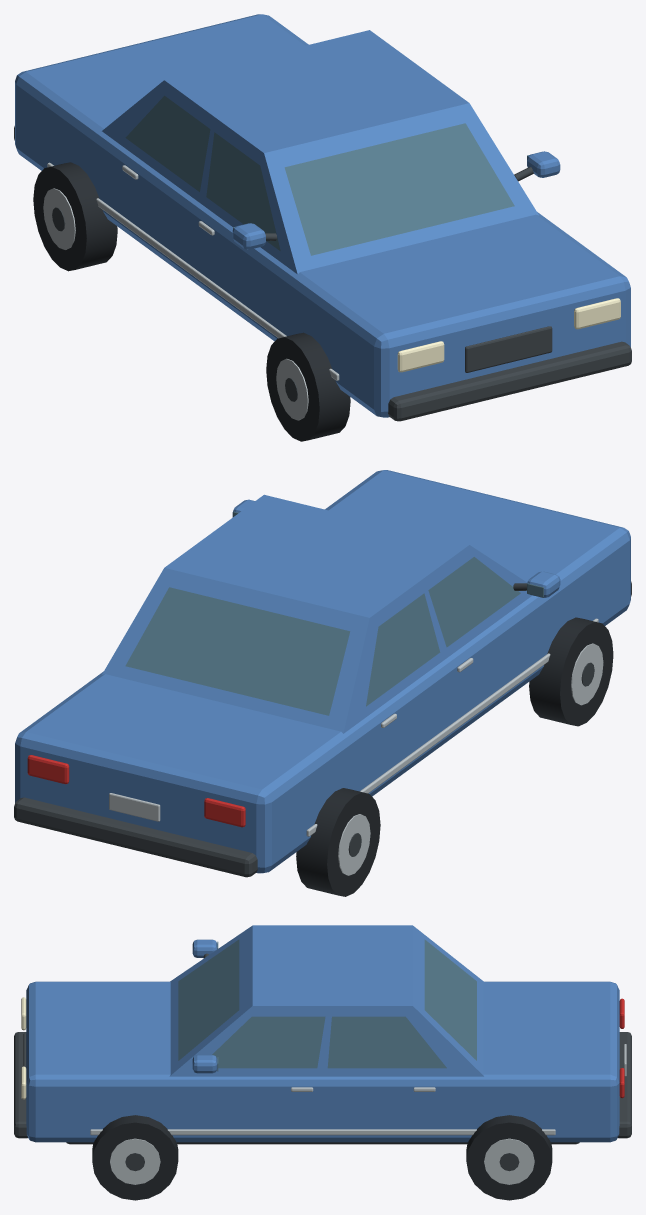
File: car_sedan.glb
The picture shows the model from 3 angles, top to bottom: view 1: azimuth 30°, elevation 25°; view 2: azimuth 150°, elevation 25°; view 3: azimuth 270°, elevation 25°; orthographic projection. The views are drawn at different scales.
Visible parts, largest first — view 1: Main body, Sedan cabin shell, Sedan windshield, Front bumper, Left front wheel tire, Left rear wheel tire, Sedan left window 2, Sedan left window 1, Front grille, Side lower trim, Left front wheel rim, Left rear wheel rim (+4 smaller); view 2: Main body, Sedan cabin shell, Sedan rear glass, Rear bumper, Left rear wheel tire, Left front wheel tire, Sedan left window 2, Sedan left window 1, Side lower trim, Left rear wheel rim, Left front wheel rim, Rear blank license plate (+2 smaller); view 3: Main body, Sedan cabin shell, Sedan right window 2, Sedan right window 1, Sedan windshield, Right rear wheel tire, Right front wheel tire, Sedan rear glass, Side lower trim.001, Right front wheel rim, Right rear wheel rim, Rear bumper (+4 smaller).
Part boxes in pixels (box(x1,y1,x2,y2)): Main body: box(15, 14, 630, 417); Sedan cabin shell: box(102, 30, 538, 274); Sedan windshield: box(284, 123, 514, 255); Front bumper: box(388, 341, 631, 421); Left front wheel tire: box(266, 332, 350, 441); Left rear wheel tire: box(33, 162, 117, 271); Sedan left window 2: box(125, 95, 210, 191); Sedan left window 1: box(206, 132, 280, 250); Front grille: box(465, 326, 552, 372); Side lower trim: box(47, 162, 339, 380); Left front wheel rim: box(276, 358, 308, 420); Left rear wheel rim: box(43, 188, 75, 249); Main body: box(15, 470, 630, 873); Sedan cabin shell: box(102, 494, 532, 733); Sedan rear glass: box(125, 587, 350, 715); Rear bumper: box(14, 797, 257, 877); Left rear wheel tire: box(296, 788, 380, 896); Left front wheel tire: box(529, 617, 613, 726); Sedan left window 2: box(366, 593, 440, 706); Sedan left window 1: box(428, 557, 520, 647); Side lower trim: box(306, 618, 598, 836); Left rear wheel rim: box(338, 814, 370, 875); Left front wheel rim: box(571, 643, 603, 705); Rear blank license plate: box(109, 793, 160, 821); Main body: box(26, 981, 619, 1142); Sedan cabin shell: box(169, 925, 483, 1076); Sedan right window 2: box(327, 1016, 446, 1068); Sedan right window 1: box(212, 1016, 325, 1068); Sedan windshield: box(178, 939, 239, 1060); Right rear wheel tire: box(466, 1115, 552, 1200); Right front wheel tire: box(92, 1115, 178, 1200); Sedan rear glass: box(424, 939, 476, 1060); Side lower trim.001: box(90, 1129, 555, 1135); Right front wheel rim: box(110, 1138, 160, 1184); Right rear wheel rim: box(484, 1138, 534, 1184); Rear bumper: box(618, 1032, 631, 1138).
Size of the model in its own units: 2.25 by 1.5 by 4.74.
